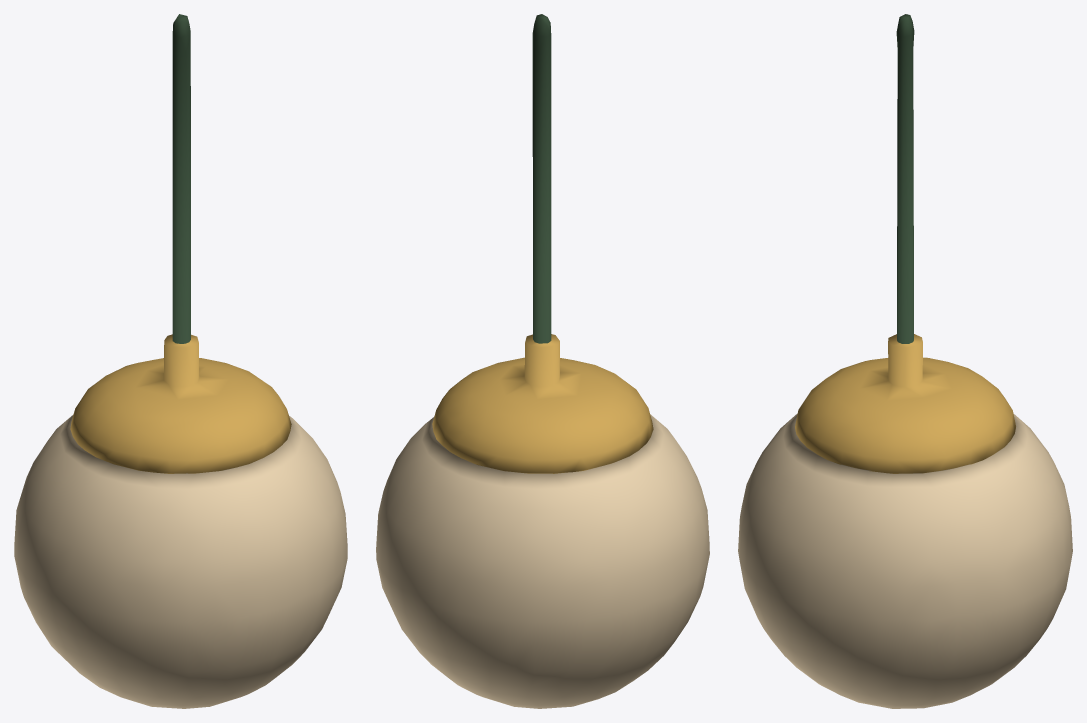
File: GJH_NEW_lamp_pendant.glb
3 renders of one model, left to right at view 1: azimuth 30°, elevation 25°; view 2: azimuth 150°, elevation 25°; view 3: azimuth 270°, elevation 25°, orthographic.
Parts seen in each view (by area): view 1: GJH_NEW_lamp_pendant; view 2: GJH_NEW_lamp_pendant; view 3: GJH_NEW_lamp_pendant.
Boxes of the visible parts, box(x1,y1,x2,y2) form: GJH_NEW_lamp_pendant: box(14, 14, 347, 708); GJH_NEW_lamp_pendant: box(376, 14, 709, 708); GJH_NEW_lamp_pendant: box(738, 14, 1072, 708).
Size of the model in its own units: 0.38 by 0.85 by 0.38.
